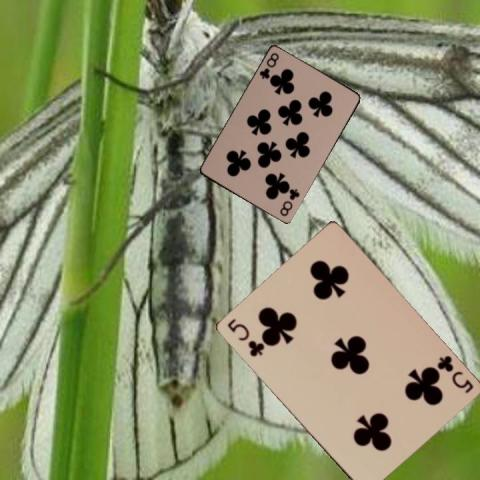5c: (223, 315, 265, 359), (433, 352, 475, 395)
8c: (256, 50, 281, 81), (277, 186, 301, 218)
